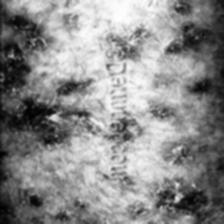Potentially Malignant Skin Tumors: (7, 108, 98, 140), (6, 18, 50, 62), (166, 22, 206, 55), (55, 74, 98, 97), (158, 188, 196, 211), (0, 64, 26, 94), (144, 104, 176, 126), (22, 195, 52, 212), (188, 73, 210, 96), (166, 143, 188, 162), (130, 36, 141, 55)
